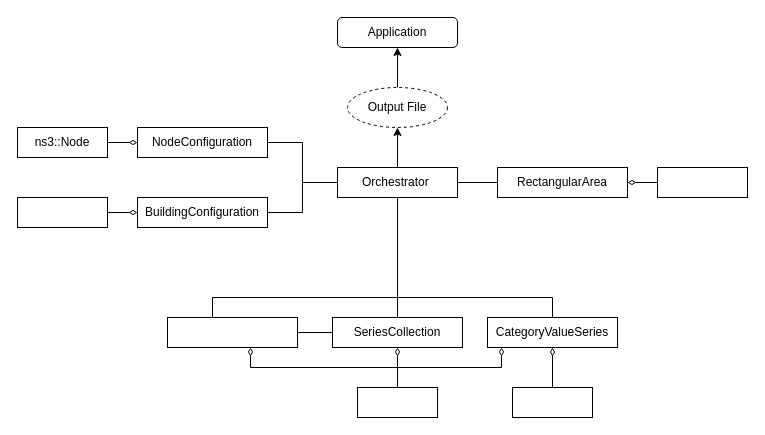
Some shapes in this 765 by 435 pixel diagram are drawn without their labels. The shapes that lost their labels are listed below. From the top down, each one's centre as x and y in pixels, then its label:
(702,182): ns3::Rectangle
(62,212): ns3::Building
(232,332): XYSeries
(397,402): ValueAxis
(552,402): CategoryAxis
